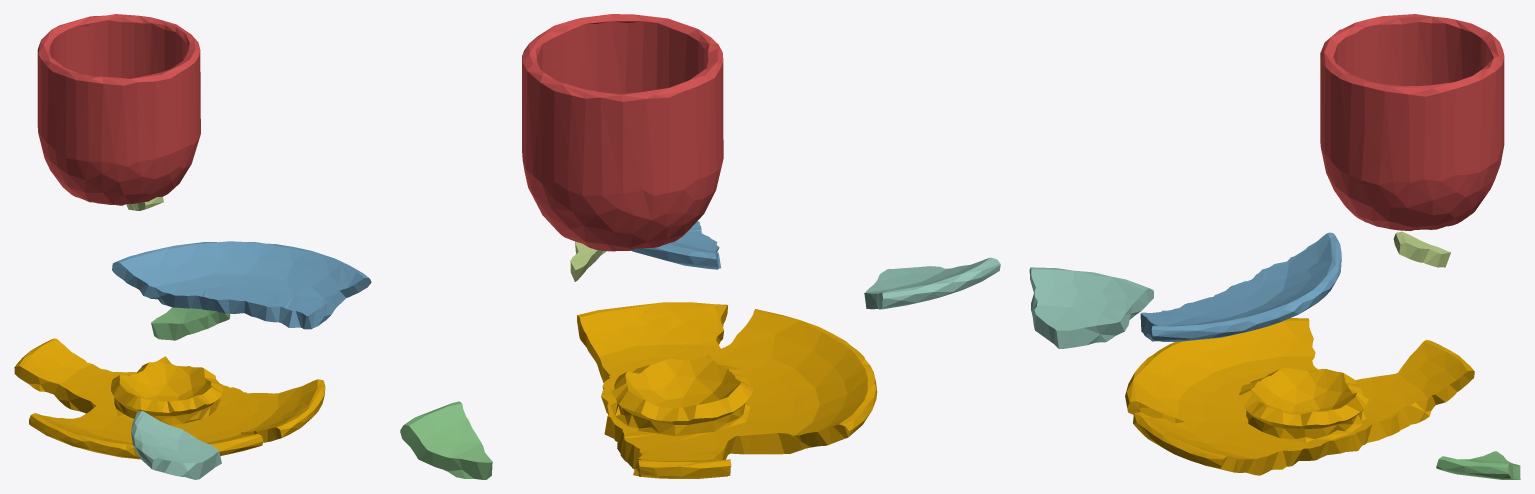
Rendered from fractured_32_6pcs_transformed.glb.
The picture shows the model from 3 angles, left to right: view 1: azimuth 30°, elevation 25°; view 2: azimuth 150°, elevation 25°; view 3: azimuth 270°, elevation 25°; orthographic projection. The views are drawn at different scales.
Parts seen in each view (by area): view 1: piece_1.obj, piece_0.obj, piece_2.obj, piece_4.obj, piece_3.obj; view 2: piece_1.obj, piece_0.obj, piece_3.obj, piece_4.obj, piece_2.obj, piece_5.obj; view 3: piece_1.obj, piece_0.obj, piece_2.obj, piece_4.obj, piece_3.obj, piece_5.obj.
Part boxes in pixels (x1,y1,x2,y2): piece_1.obj: (37, 14, 200, 205); piece_0.obj: (14, 338, 325, 459); piece_2.obj: (112, 241, 371, 329); piece_4.obj: (131, 411, 221, 479); piece_3.obj: (151, 307, 230, 340); piece_1.obj: (522, 14, 723, 251); piece_0.obj: (577, 302, 877, 478); piece_3.obj: (400, 401, 492, 479); piece_4.obj: (864, 257, 1000, 309); piece_2.obj: (631, 221, 720, 269); piece_5.obj: (570, 241, 606, 281); piece_1.obj: (1320, 14, 1504, 230); piece_0.obj: (1125, 318, 1474, 475); piece_2.obj: (1140, 232, 1341, 341); piece_4.obj: (1029, 267, 1153, 348); piece_3.obj: (1436, 451, 1520, 479); piece_5.obj: (1393, 231, 1450, 267).
Size of the model in its own units: 1 by 1.17 by 1.37.
